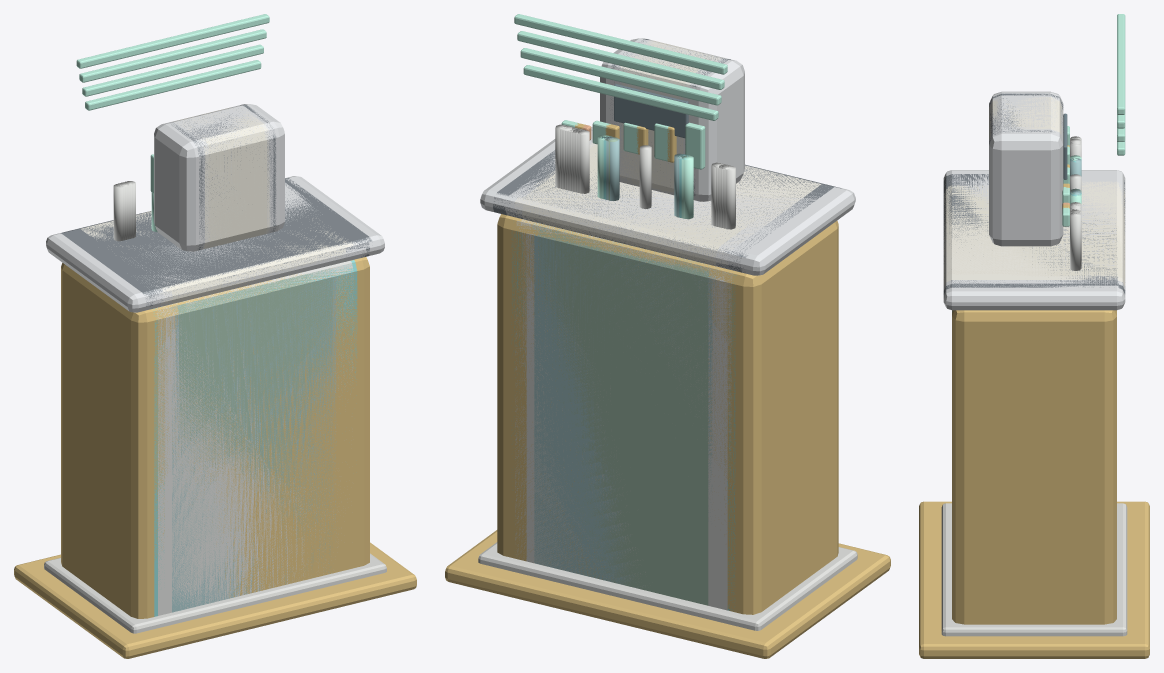
The model's file is Gear05.fbx.
3 views of the same model, side by side, from view 1: azimuth 30°, elevation 25°; view 2: azimuth 150°, elevation 25°; view 3: azimuth 270°, elevation 25° (orthographic). The views are drawn at different scales.
Parts seen in each view (by area): view 1: Gear05_V10_Gold, Gear05_V1_Sage, Gear05_V4_Chrome, Gear05_V10_Platinum, Gear05_V2_Blue, Gear05_V7_Graphite, Gear05_V8_Graphite, Gear05_V1_Ivory, Gear05_V2_Ivory, Gear05_V9_Gold, Gear05_V5_Chrome, Gear05_V3_Blue (+13 smaller); view 2: Gear05_V10_Gold, Gear05_V1_Sage, Gear05_V2_Blue, Gear05_V10_Platinum, Gear05_V9_Gold, Gear05_V1_Ivory, Gear05_V4_Chrome, Gear05_V5_Chrome, Gear05_V4_Linen, Gear05_V6_Chrome, Gear05_V10_Chrome, Gear05_V10_Glow (+17 smaller); view 3: Gear05_V10_Gold, Gear05_V10_Platinum, Gear05_V4_Linen, Gear05_V2_Ivory, Gear05_V1_Ivory, Gear05_V10_Chrome, Gear05_V9_Platinum, Gear05_V9_Gold, Gear05_V8_Graphite, Gear05_V5_Platinum, Gear05_V7_Graphite, Gear05_V10_Glow (+6 smaller).
Part boxes in pixels (left/top/right/bottom): Gear05_V10_Gold: left=14, top=257, right=416, bottom=658; Gear05_V1_Sage: left=177, top=268, right=332, bottom=571; Gear05_V4_Chrome: left=157, top=274, right=363, bottom=627; Gear05_V10_Platinum: left=46, top=104, right=384, bottom=312; Gear05_V2_Blue: left=174, top=268, right=336, bottom=573; Gear05_V7_Graphite: left=63, top=105, right=369, bottom=306; Gear05_V8_Graphite: left=61, top=104, right=371, bottom=306; Gear05_V1_Ivory: left=144, top=107, right=346, bottom=304; Gear05_V2_Ivory: left=86, top=120, right=349, bottom=304; Gear05_V9_Gold: left=24, top=259, right=410, bottom=657; Gear05_V5_Chrome: left=125, top=181, right=367, bottom=628; Gear05_V3_Blue: left=170, top=281, right=339, bottom=612; Gear05_V10_Gold: left=445, top=214, right=890, bottom=658; Gear05_V1_Sage: left=538, top=227, right=710, bottom=605; Gear05_V2_Blue: left=534, top=137, right=712, bottom=587; Gear05_V10_Platinum: left=480, top=38, right=855, bottom=275; Gear05_V9_Gold: left=451, top=216, right=760, bottom=656; Gear05_V1_Ivory: left=522, top=43, right=763, bottom=265; Gear05_V4_Chrome: left=503, top=128, right=732, bottom=619; Gear05_V5_Chrome: left=500, top=128, right=735, bottom=621; Gear05_V4_Linen: left=509, top=40, right=820, bottom=266; Gear05_V6_Chrome: left=496, top=127, right=745, bottom=620; Gear05_V10_Chrome: left=478, top=124, right=857, bottom=630; Gear05_V10_Glow: left=514, top=14, right=727, bottom=219; Gear05_V10_Gold: left=919, top=310, right=1149, bottom=658; Gear05_V10_Platinum: left=943, top=91, right=1125, bottom=310; Gear05_V4_Linen: left=943, top=97, right=1125, bottom=286; Gear05_V2_Ivory: left=946, top=99, right=1125, bottom=279; Gear05_V1_Ivory: left=943, top=99, right=1125, bottom=281; Gear05_V10_Chrome: left=941, top=136, right=1127, bottom=636; Gear05_V9_Platinum: left=945, top=93, right=1125, bottom=291; Gear05_V9_Gold: left=921, top=310, right=1149, bottom=645; Gear05_V8_Graphite: left=943, top=93, right=1125, bottom=294; Gear05_V5_Platinum: left=962, top=96, right=1124, bottom=281; Gear05_V7_Graphite: left=943, top=94, right=1121, bottom=286; Gear05_V10_Glow: left=1062, top=14, right=1125, bottom=226.
Size of the model in its own units: 84 by 141 by 56.
